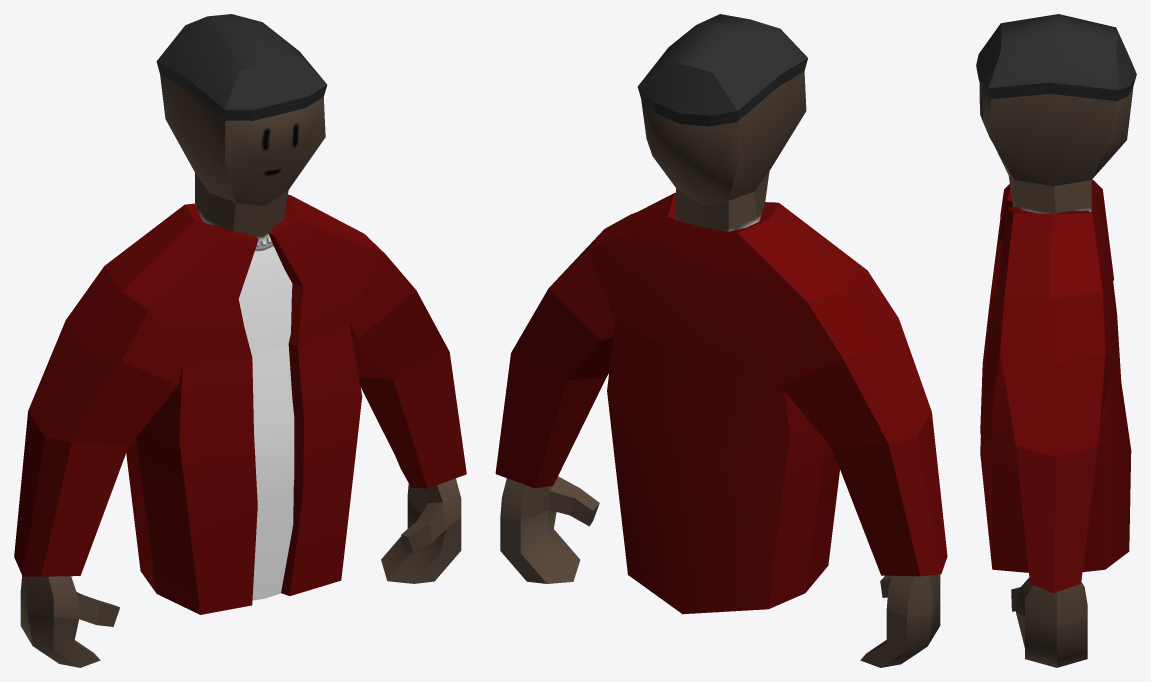
Rendered from Personaje_2.fbx.
The picture shows the model from 3 angles, left to right: view 1: azimuth 30°, elevation 25°; view 2: azimuth 150°, elevation 25°; view 3: azimuth 270°, elevation 25°; orthographic projection. The views are drawn at different scales.
Visible parts, largest first — view 1: RopaPersonaje_2, CuerpoPersonaje_2, CabelloPersonaje_2; view 2: RopaPersonaje_2, CuerpoPersonaje_2, CabelloPersonaje_2; view 3: RopaPersonaje_2, CuerpoPersonaje_2, CabelloPersonaje_2.
Part boxes in pixels (<box>): RopaPersonaje_2: <box>14,194,466,614</box>; CuerpoPersonaje_2: <box>20,74,461,667</box>; CabelloPersonaje_2: <box>156,14,327,120</box>; RopaPersonaje_2: <box>495,192,947,614</box>; CuerpoPersonaje_2: <box>500,71,940,667</box>; CabelloPersonaje_2: <box>637,14,807,126</box>; RopaPersonaje_2: <box>980,179,1131,593</box>; CuerpoPersonaje_2: <box>979,83,1133,667</box>; CabelloPersonaje_2: <box>976,14,1136,100</box>.
Bounding box in the file's own units: 89.2 × 116 × 29.99.
